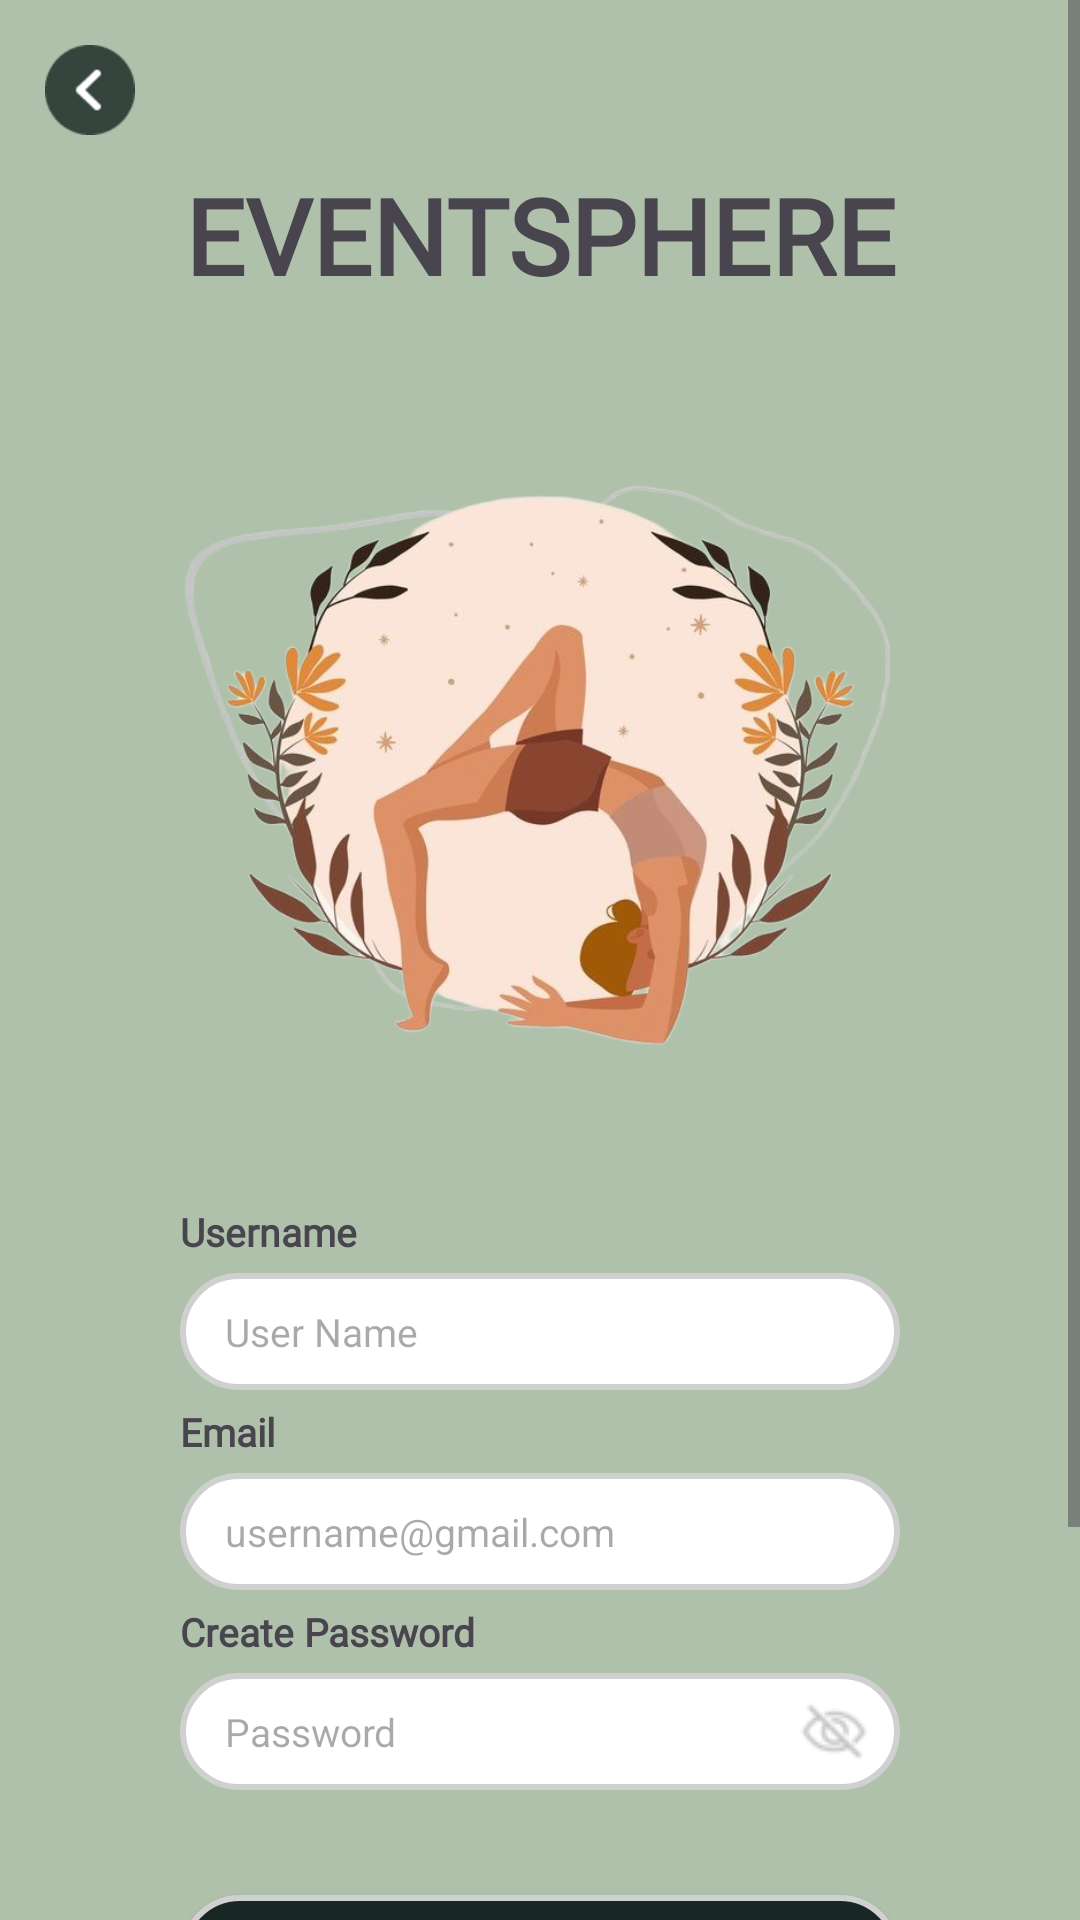

Screen size 1080 × 1920. Icon name, then its box in pixels as rect(x1, y1, x2, y2):
goback: rect(45, 45, 135, 135)
